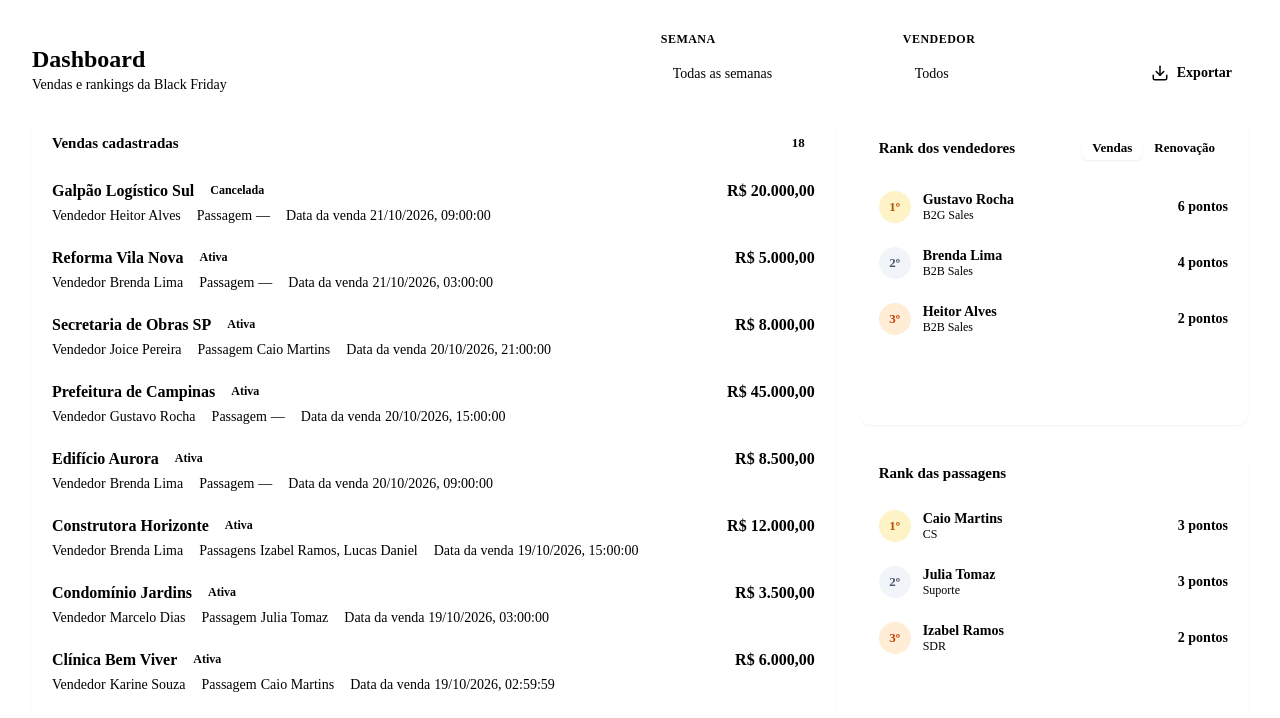
Admin com os dados falsos (quarta, 21/10/2026) › os rankings do dashboard mostram a campanha toda
The image size is (1280, 718).
Expected: the text "Gustavo Rocha" next to "6 pontos" is shown, [923,192,1014,206]
Expected: the list item "Gustavo Rocha" shows "1º", [879,191,1228,223]
Click the tab "Renovação".
click(1185, 148)  # box [1144,136,1225,160]
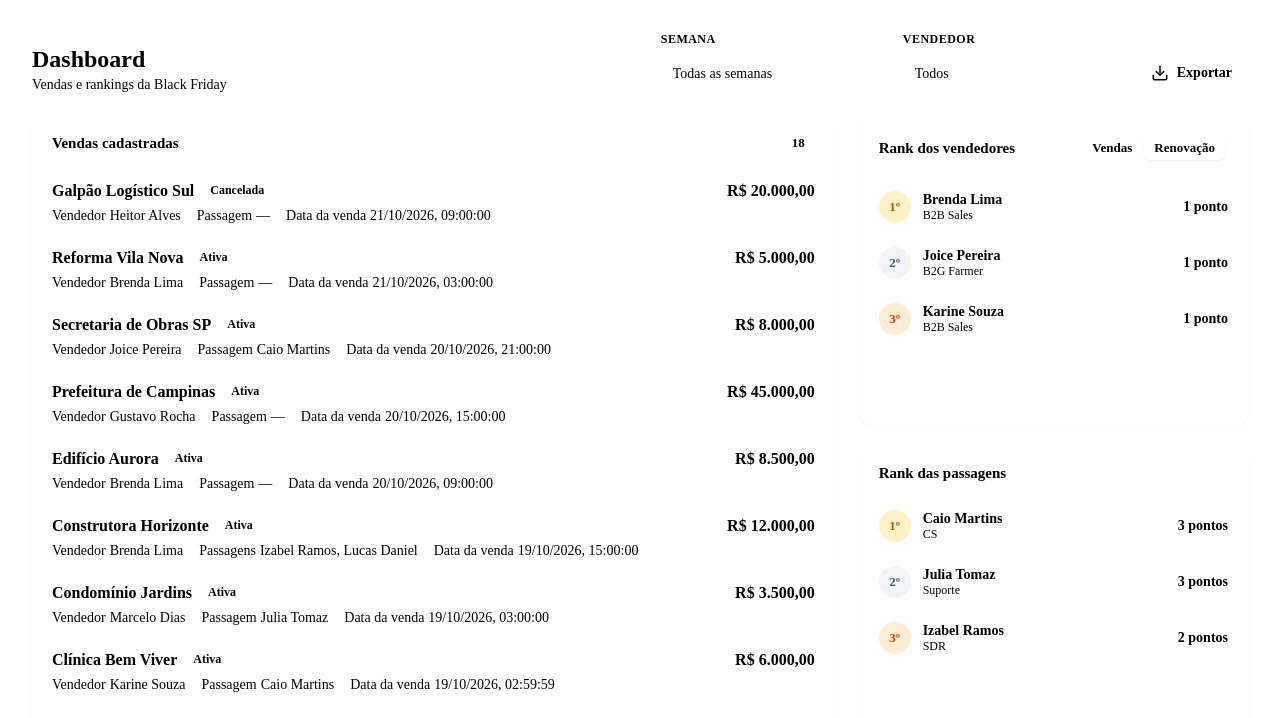
Result: the text "Karine Souza" below "B2G Farmer" is shown at [923,304,1004,318]
